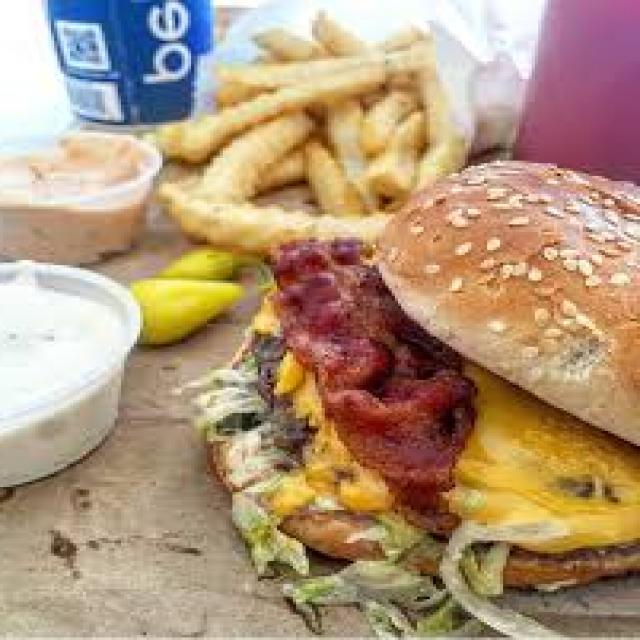Burger: (183, 154, 640, 610)
French Fries: (162, 5, 503, 255)
